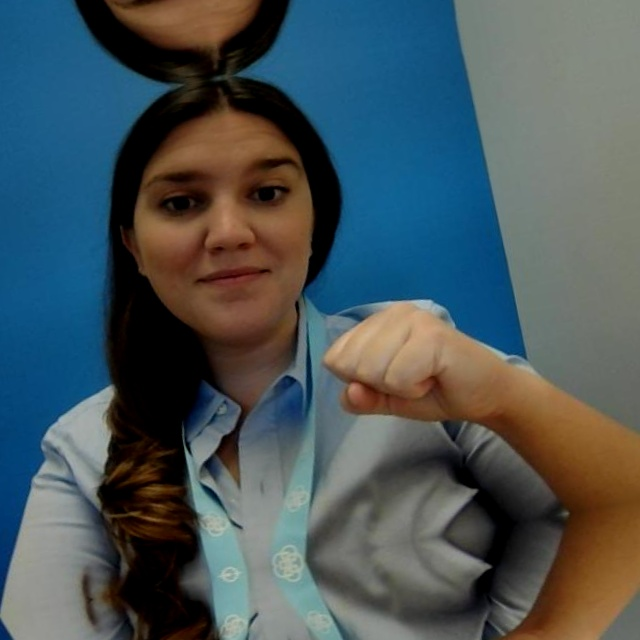Rock: (312, 277, 505, 459)
